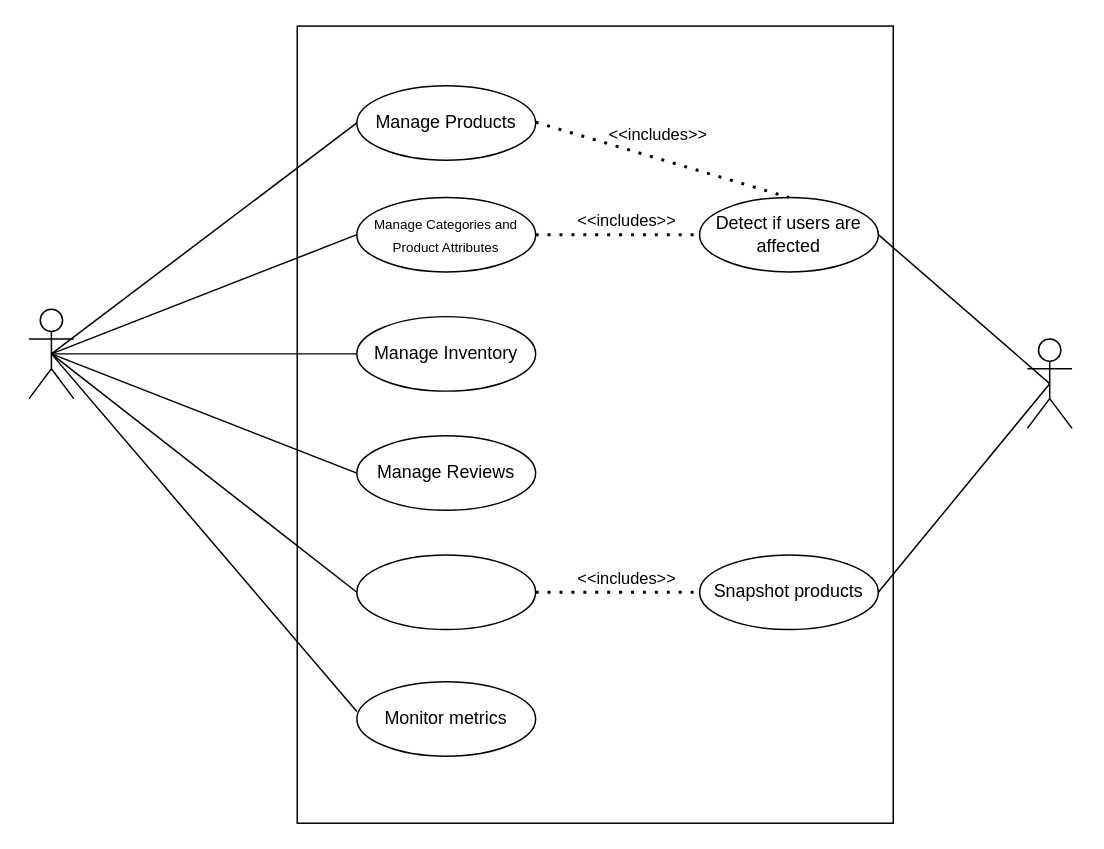
This 1104x849 diagram has some shape labels left out. Each missing label, with the centre of its shape:
Admin: [51,353]
Manage Orders: [445,592]
System: [1049,382]
